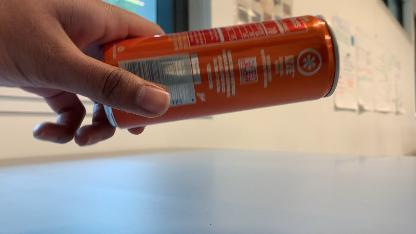Can: (98, 15, 340, 130)
